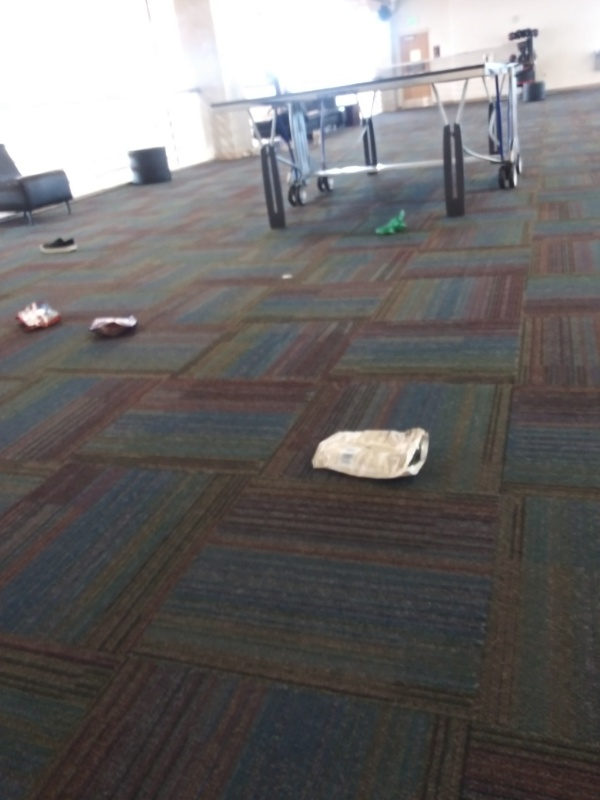bag: (309, 424, 434, 483), (11, 297, 67, 339), (86, 313, 143, 341)
